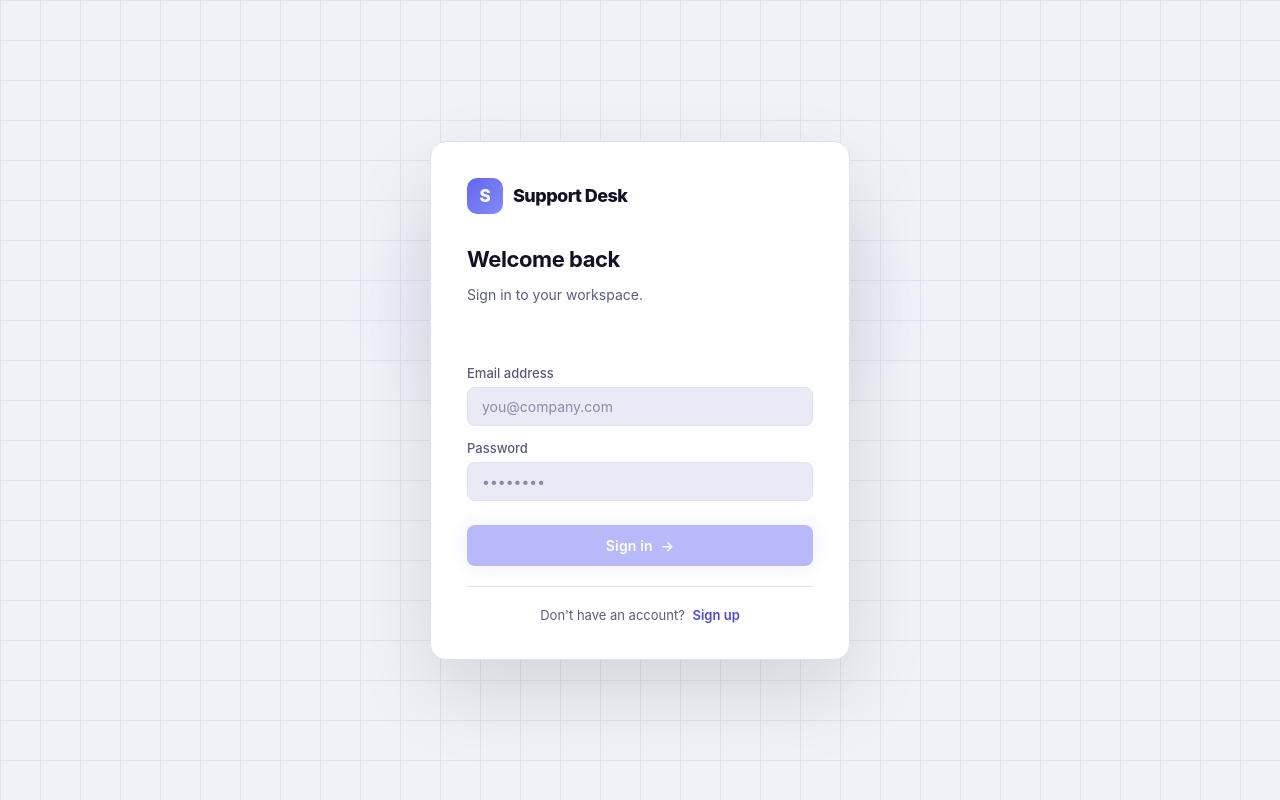
Test: Auth.vue – register mode › shows mismatch message when passwords differ
Click the text with class "auth-switch-link": (716,614) [692,606,740,622]
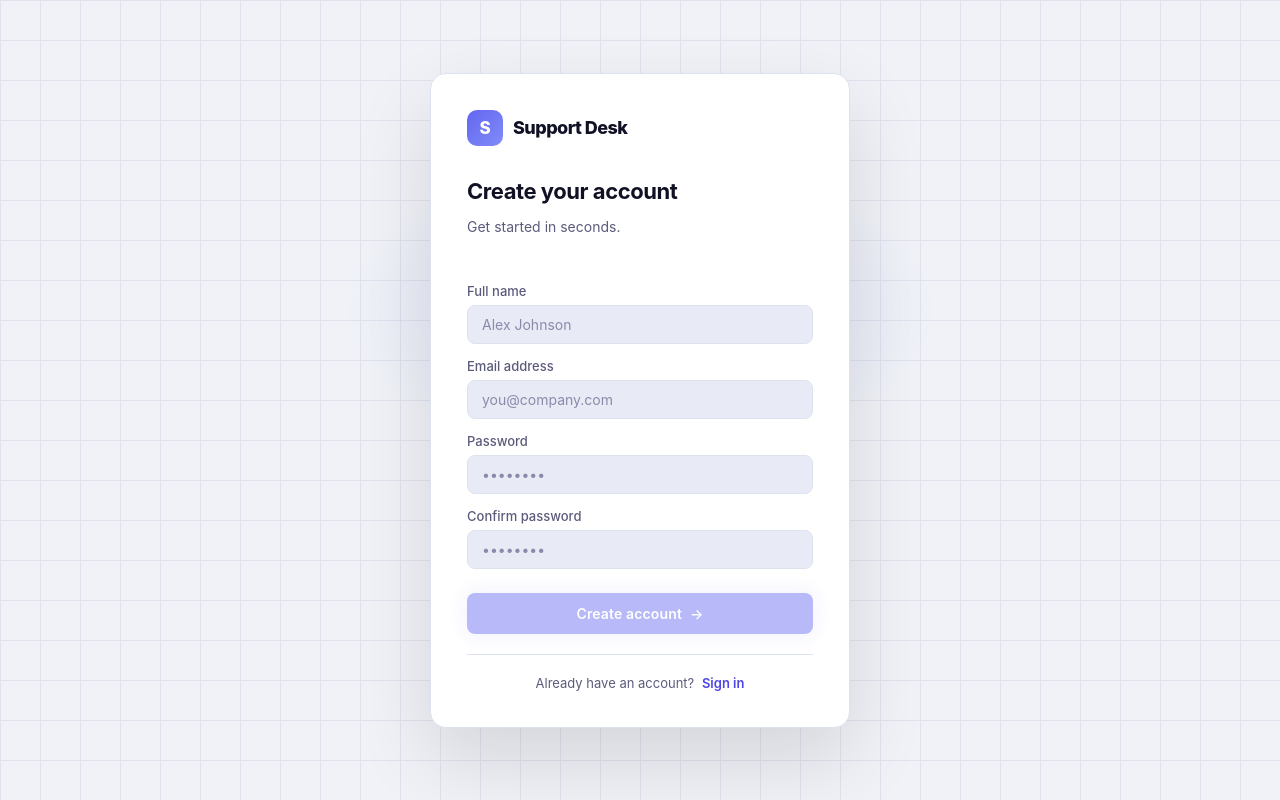
In the 1st password field with placeholder "••••••••": (640,474) [467,454,813,494], type "secret123"
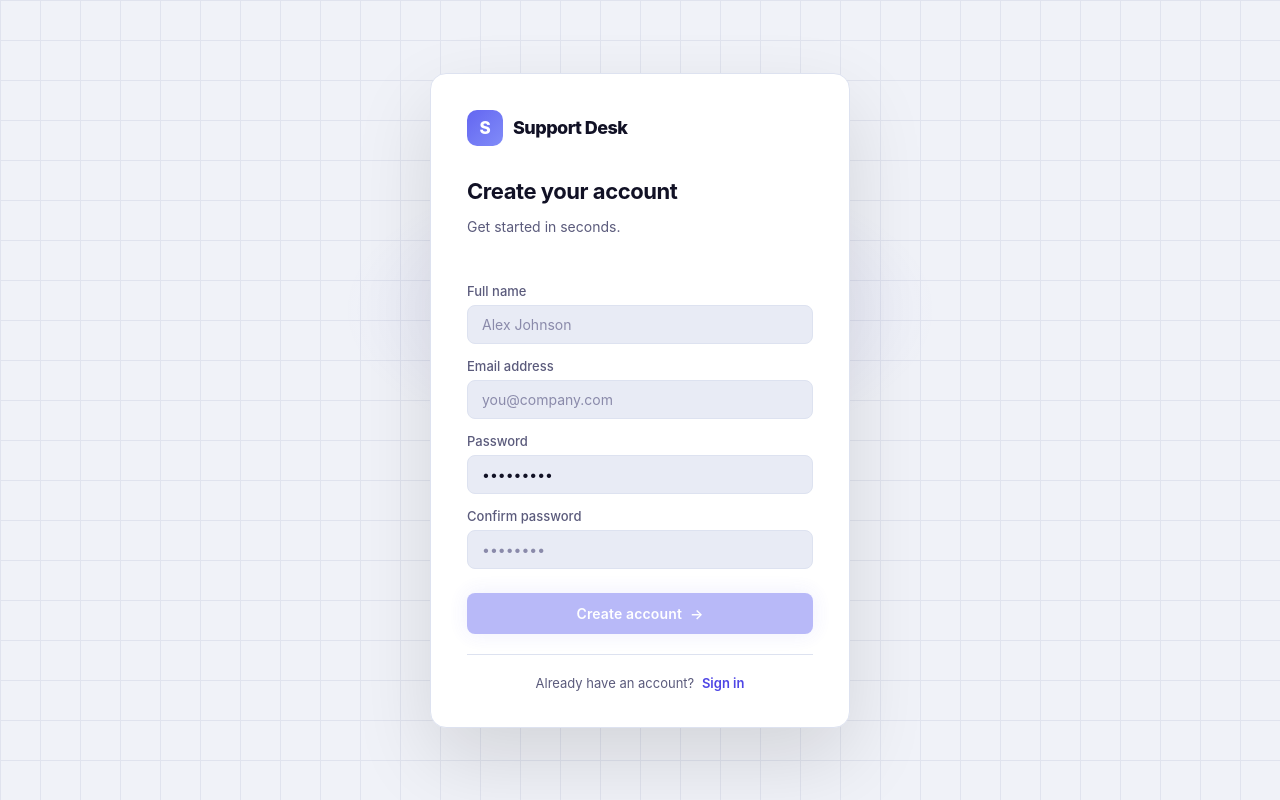
In the password field with placeholder "••••••••": (640,549) [467,530,813,568], type "different"
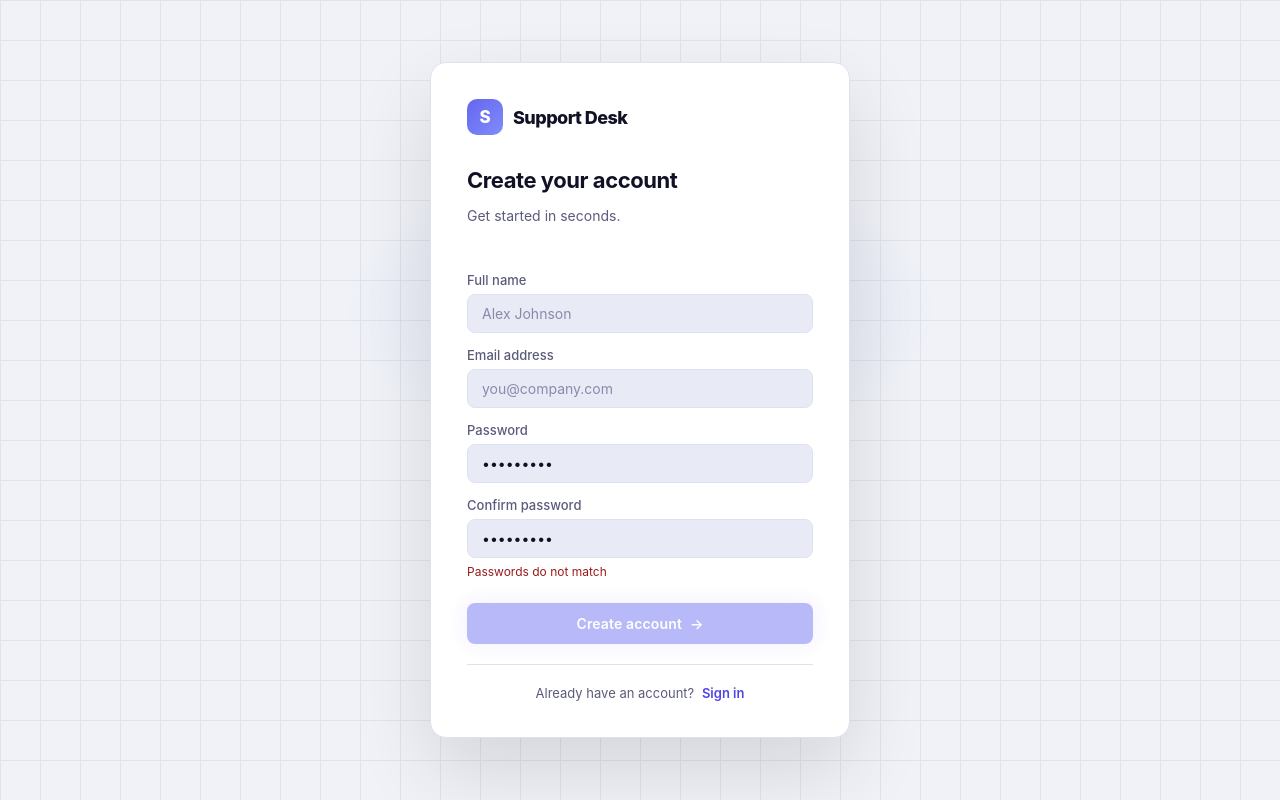
Check: the text "Passwords do not match" is shown, box [467,564,607,579]
